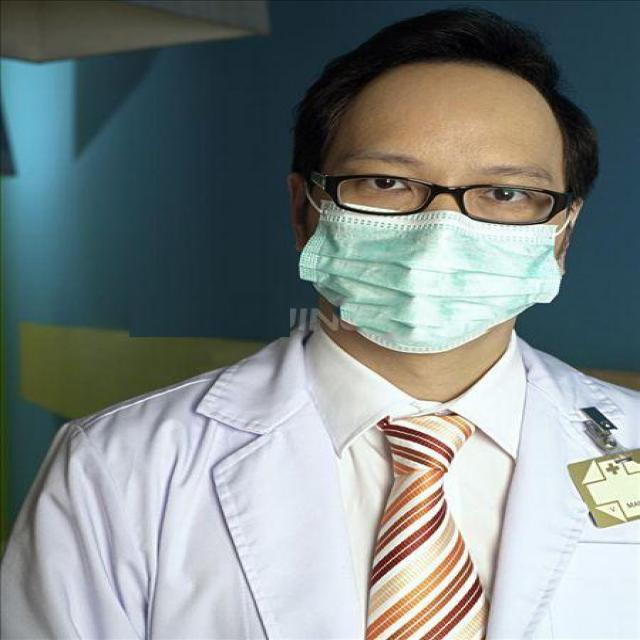mask: (336, 82, 554, 356)
